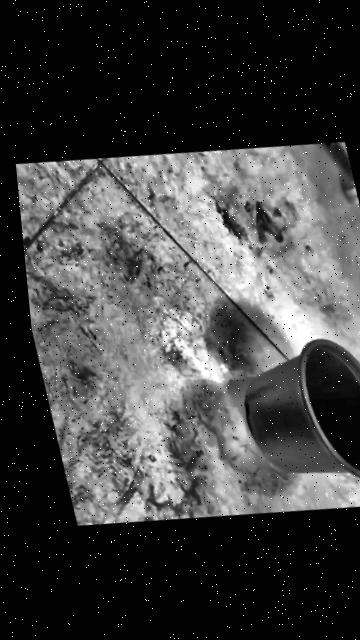pot: (226, 325, 360, 497)
